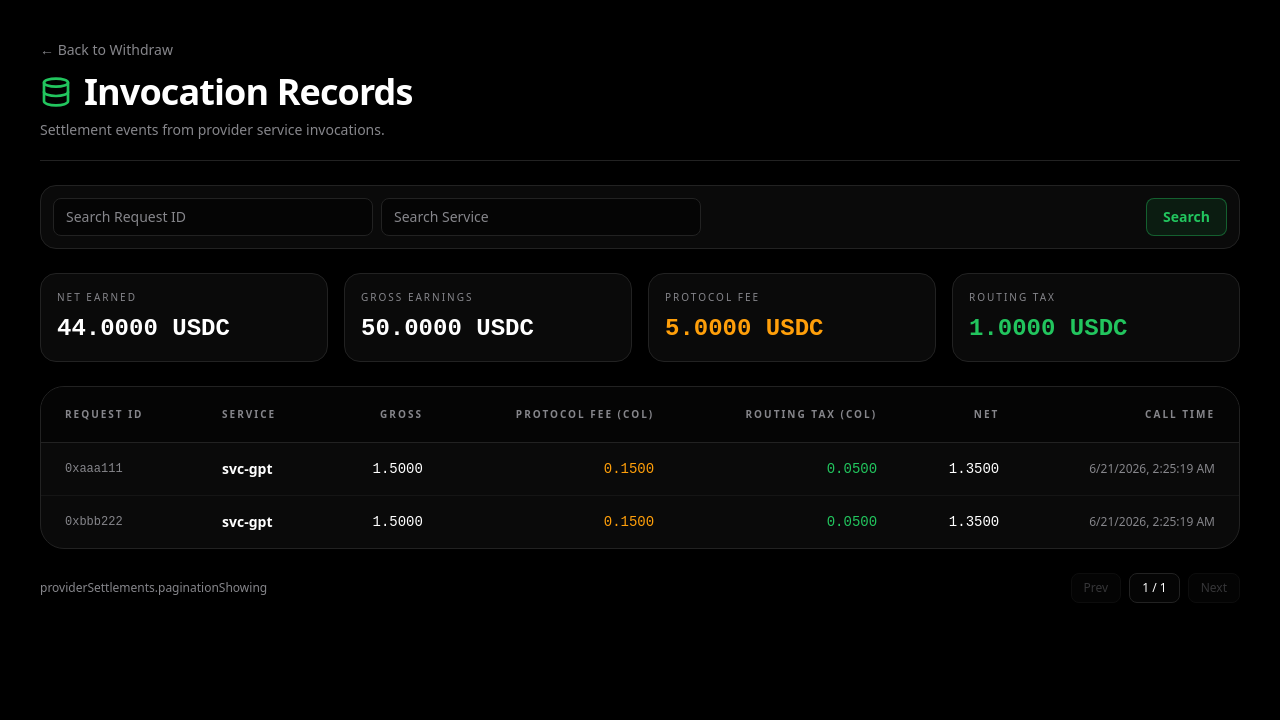
Test: ProviderWithdrawHistoryPage (Invocation Records) › filters by request ID after clicking search
Expected: the text "0xaaa111" is shown, [41,442,198,496]
Expected: the text "0xbbb222" is shown, [41,496,198,548]
Step 1. Type "aaa" into the field with placeholder "Search Request ID" → (213, 217), box [53,198,373,236]
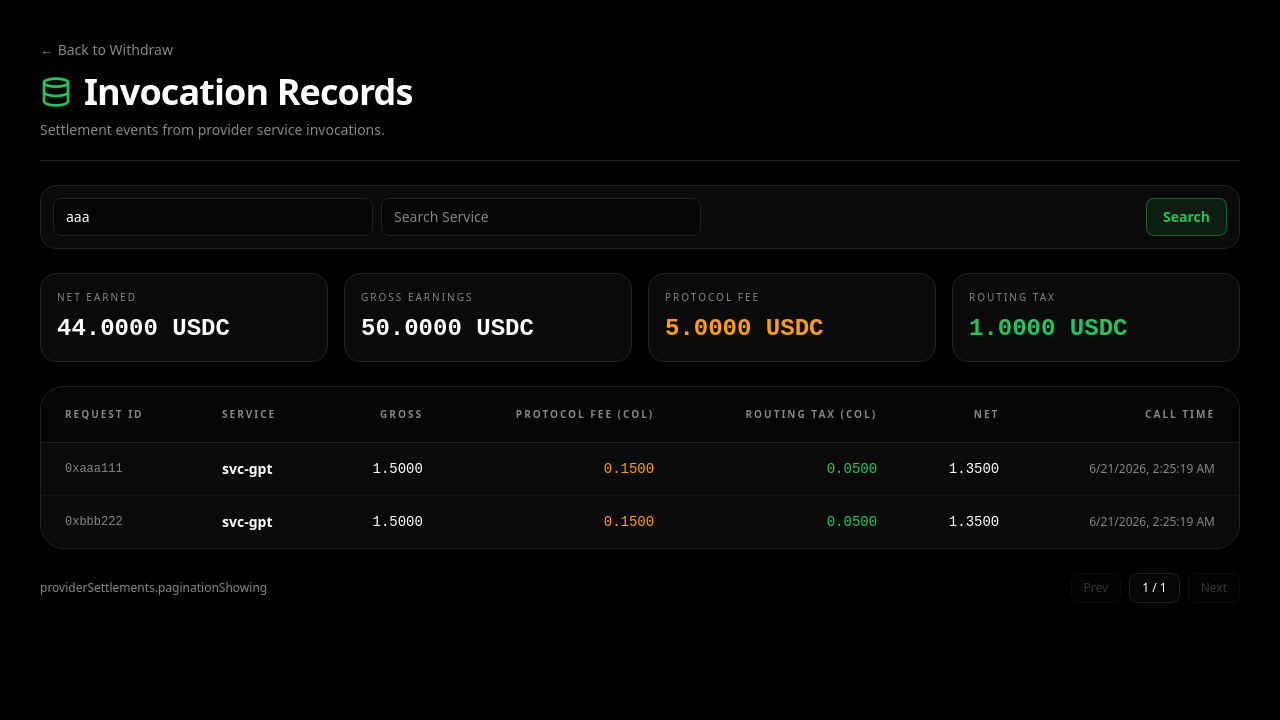
Step 2. Click the button "Search" → (1187, 217), box [1146,198,1227,236]
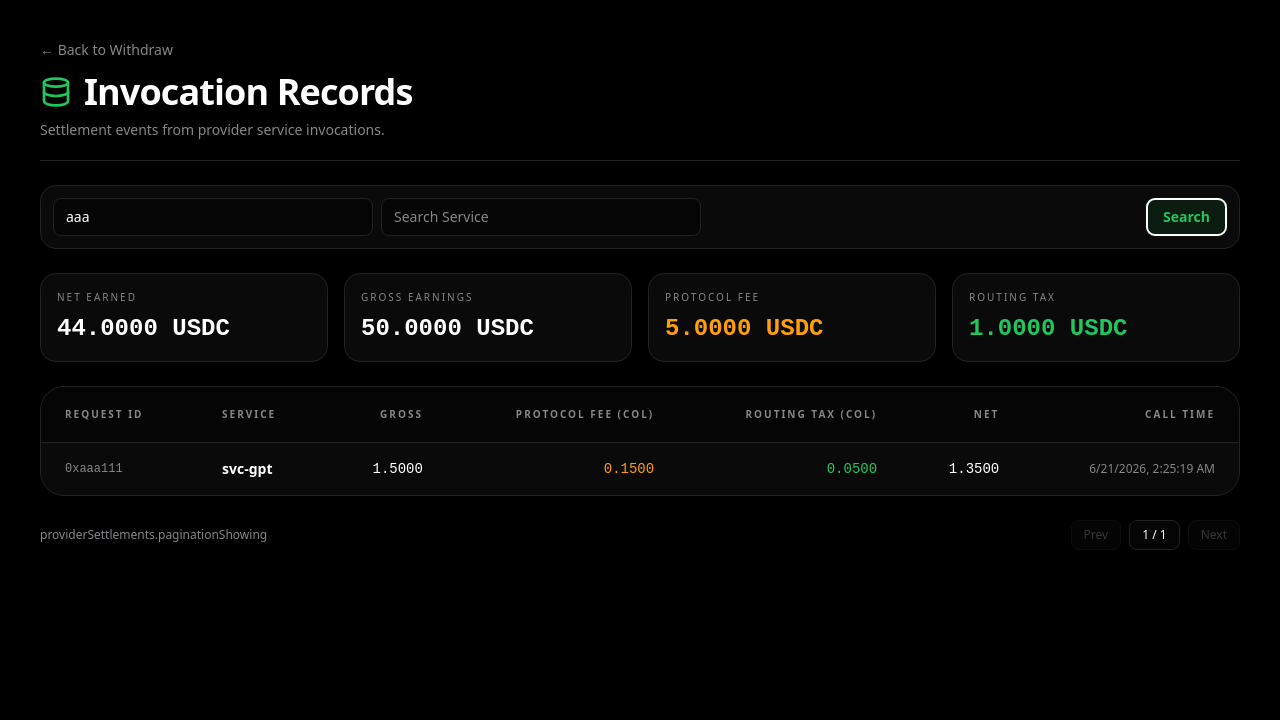
Expected: the text "0xaaa111" is shown, [41,442,198,495]
Expected: the text "0xbbb222" is gone
